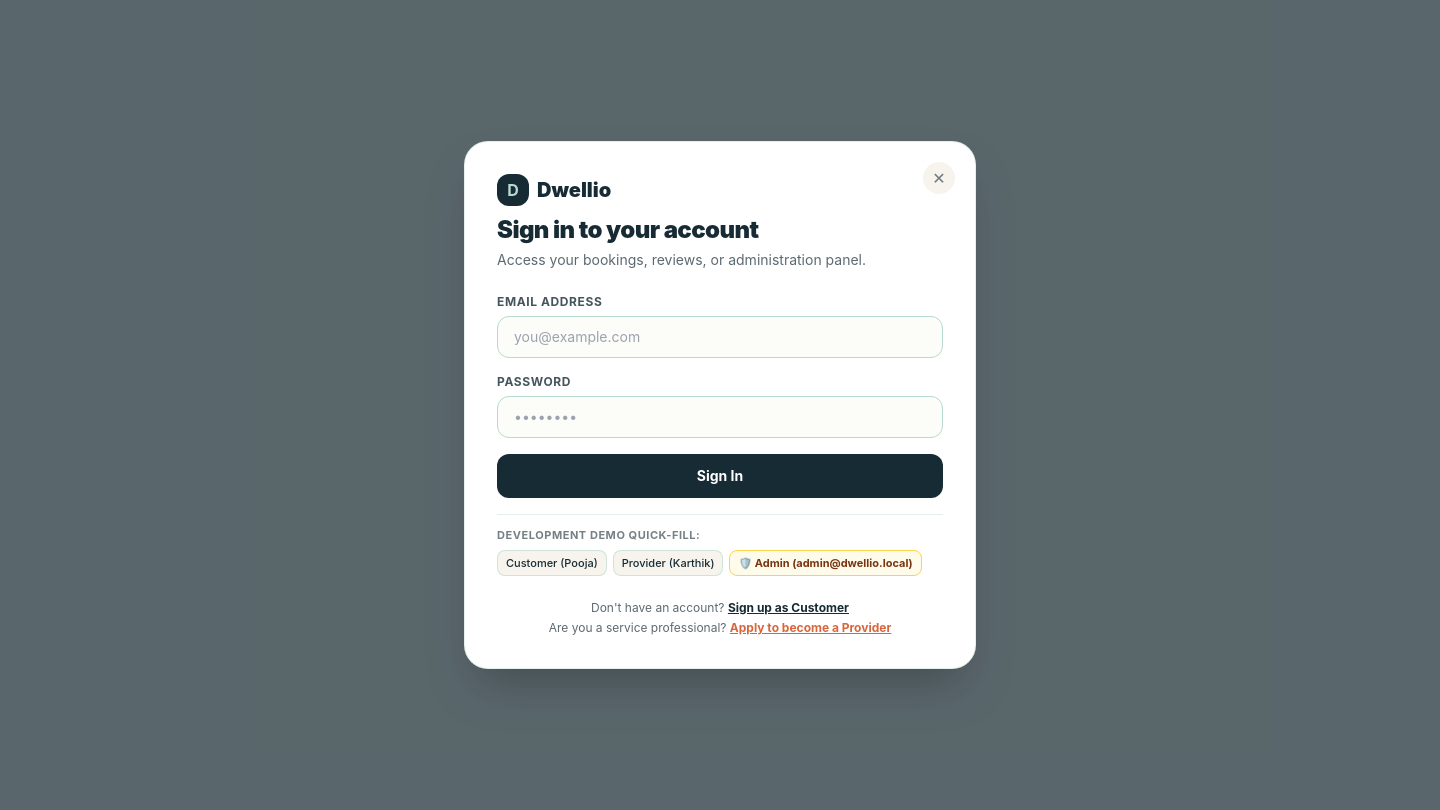
it: AuthModal Component › prefills development admin credentials when admin dev button is clicked
Step 1. Click the button "🛡️ Admin (admin@dwellio.local)" → (826, 563), box [730,550,922,576]
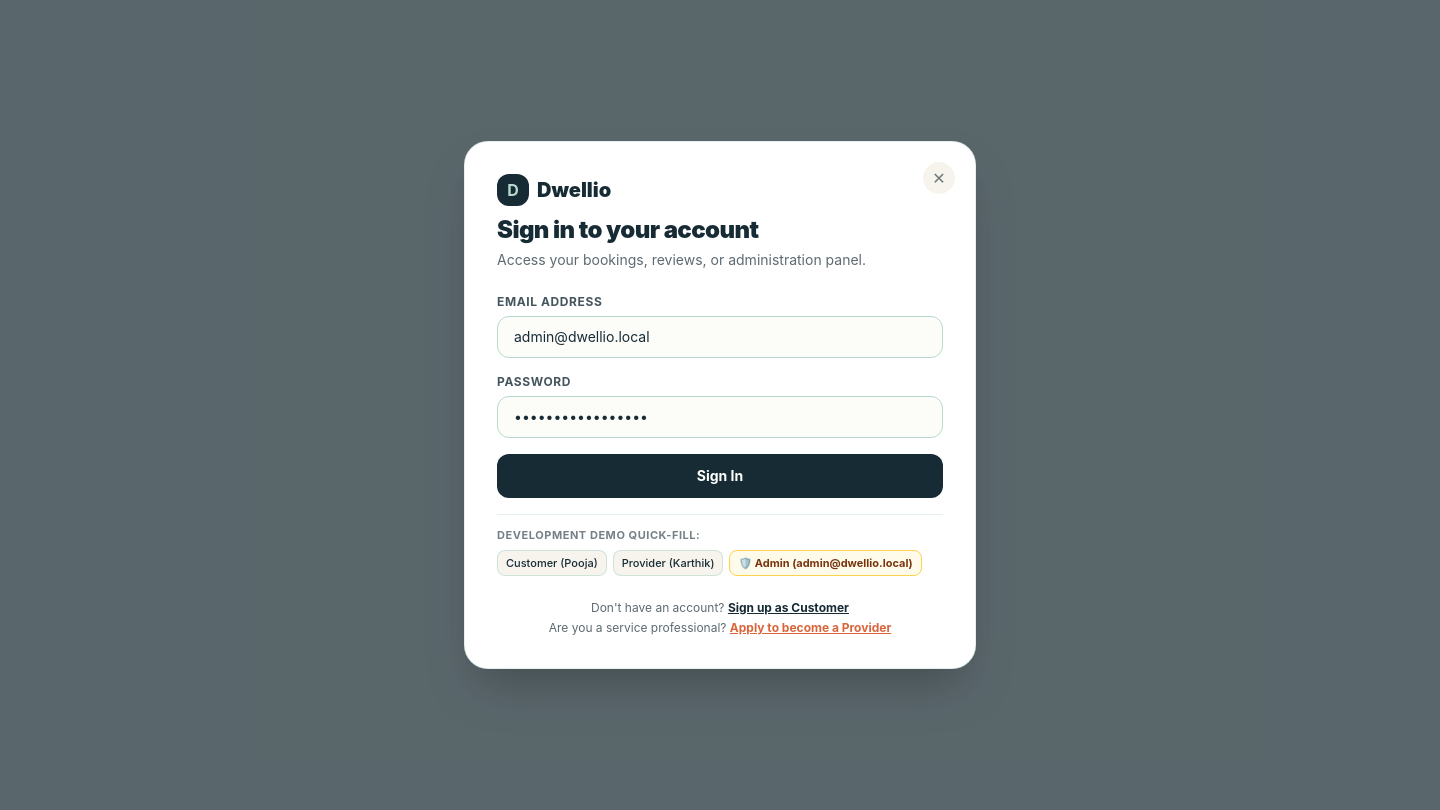
Expected: the field with placeholder "you@example.com" holds "admin@dwellio.local", [497,316,943,358]
Expected: the password field with placeholder "••••••••" holds "DwellioAdmin2026!", [497,396,943,438]
